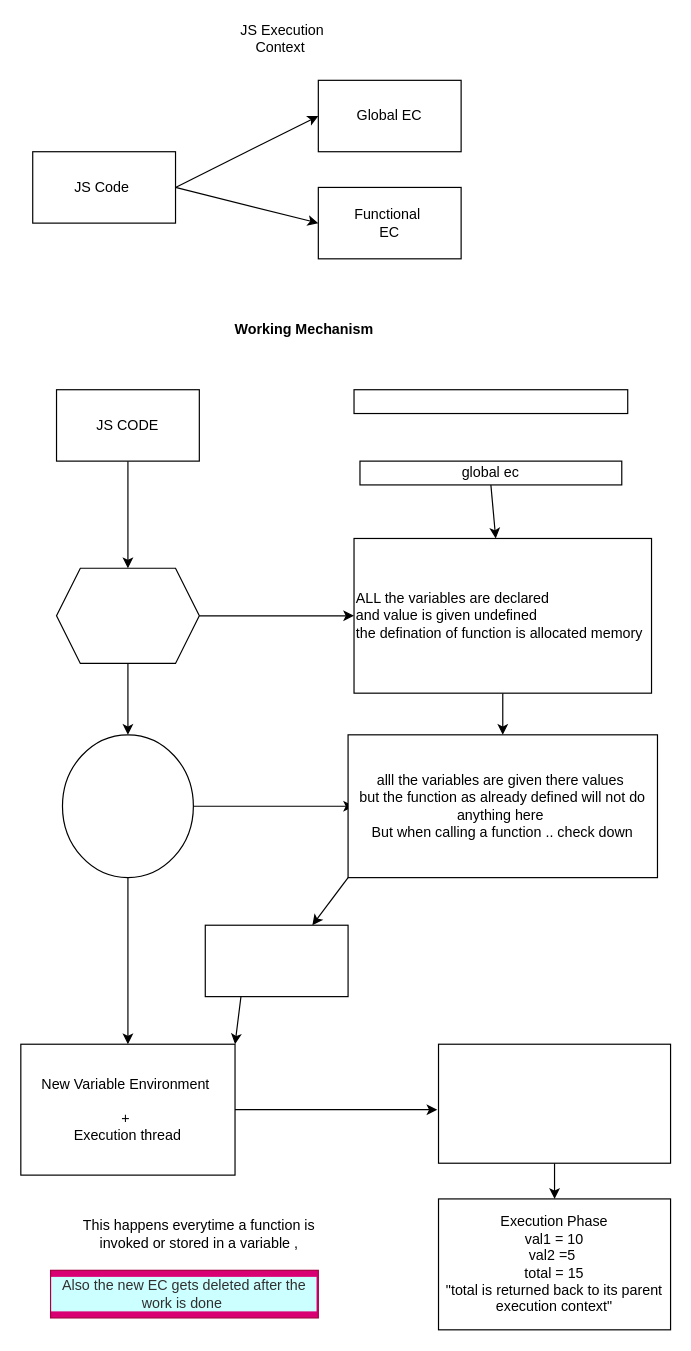
The diagram is 691 pixels wide and 1351 high, and some of its shapes have lost their labels. The shapes that lost their labels are listed below. From the top down, each one's centre as x and y in pixels, then its label:
the point at 490,401: Steps
the point at 127,615: Memory Creation Phase
the point at 127,806: Execution Phase
the point at 276,960: Functions on invoking
the point at 554,1103: New Memoy Phase val1 -> undefined lly total -> undefind
